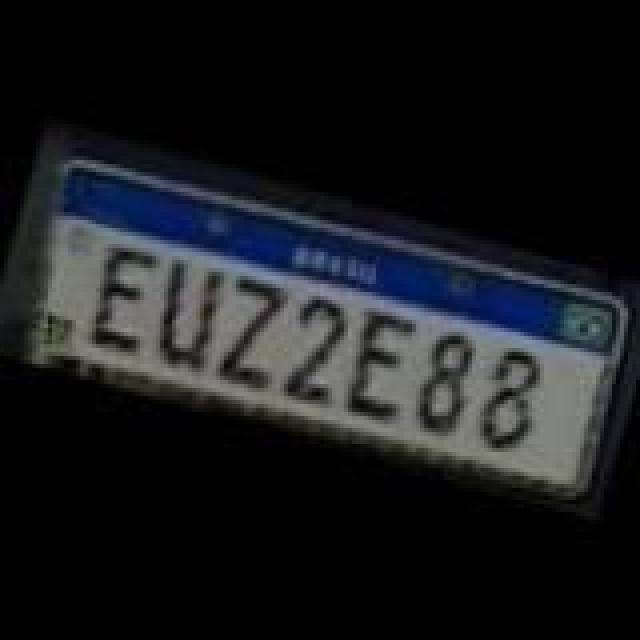2: (268, 290, 356, 410)
8: (398, 324, 486, 444), (468, 344, 552, 460)
E: (76, 240, 172, 360), (336, 308, 424, 428)
U: (148, 258, 236, 374)
Z: (202, 270, 294, 394)
